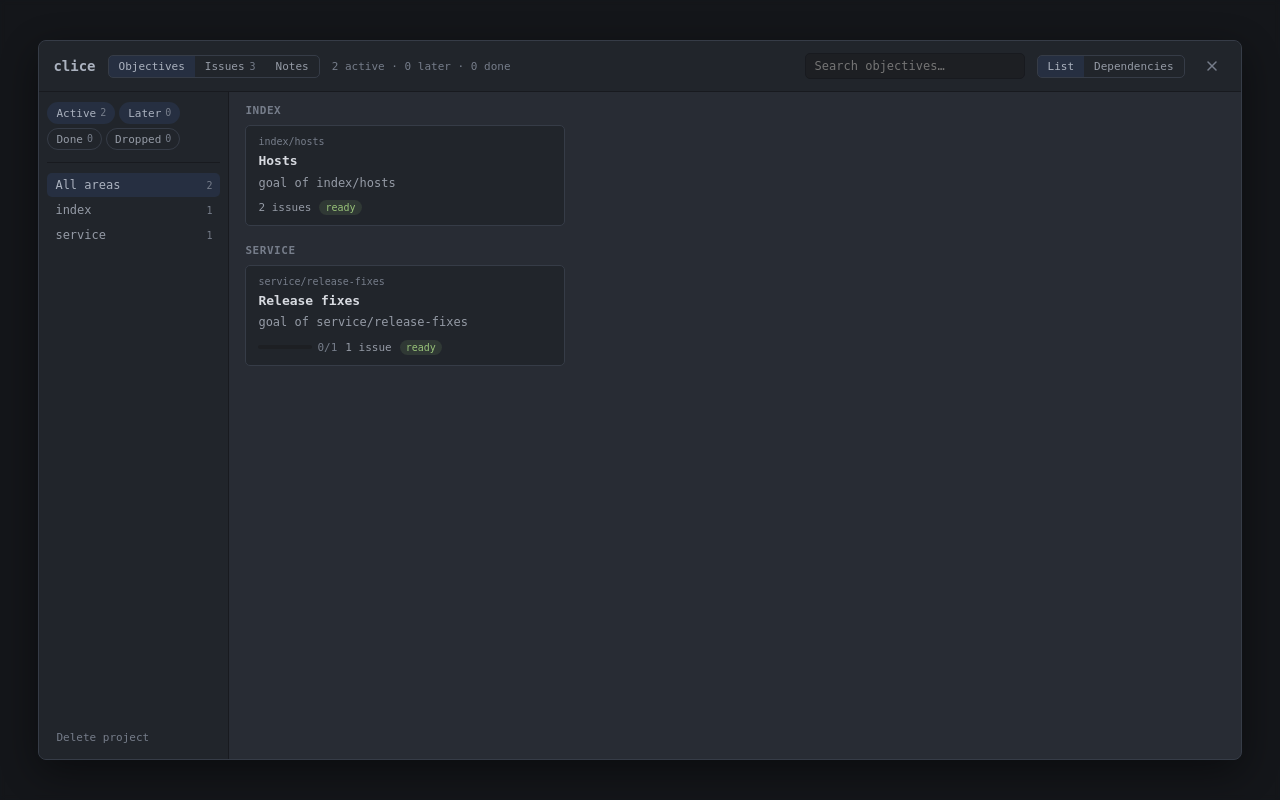
Test: issues on the objectives' side › links the issue ids named in an objective's text, not in code nor in a longer id
Click the button that starts with "service/release-fixes" at coordinates (405, 315), box [245,265,565,366]
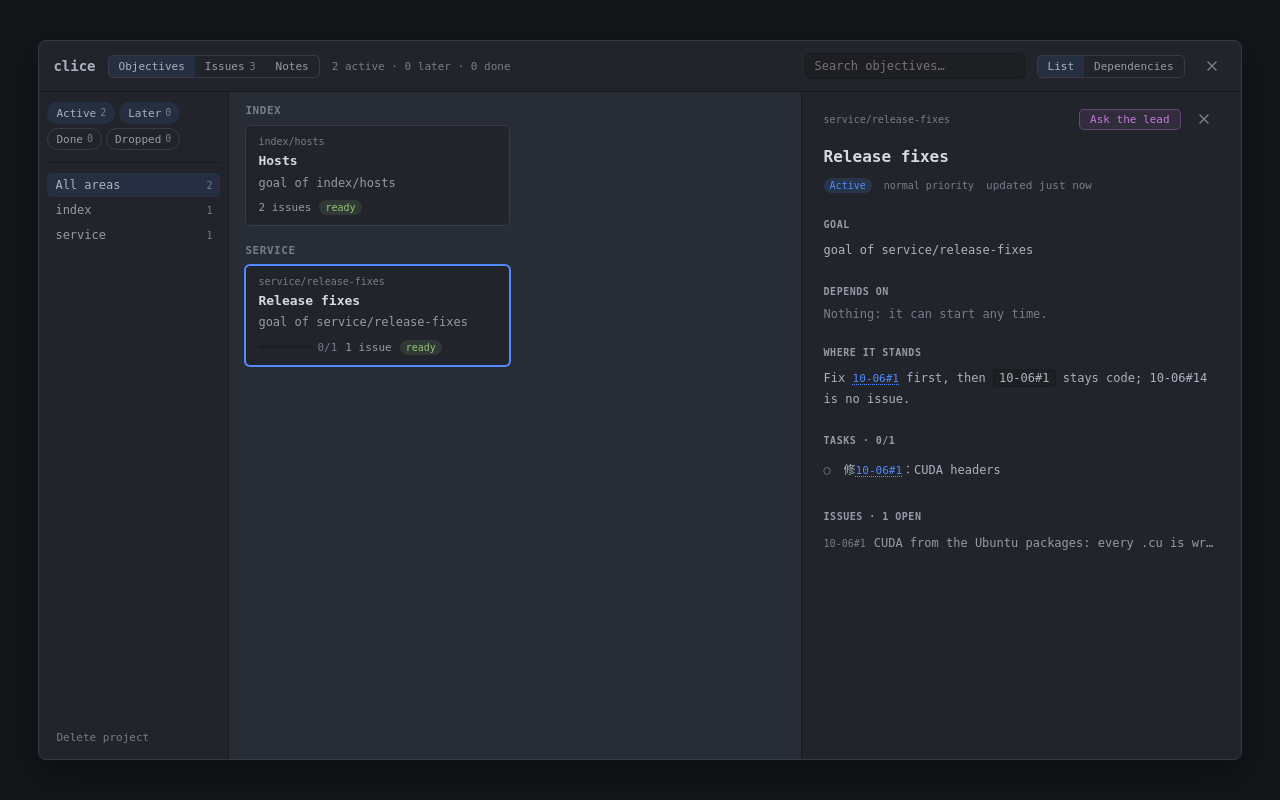
Expected: the text "10-06#1" next to "first, then" is shown, [999,371,1050,385]
Click the button with class "issue-ref" next to "first, then" at coordinates (876, 379), box [852,370,899,389]
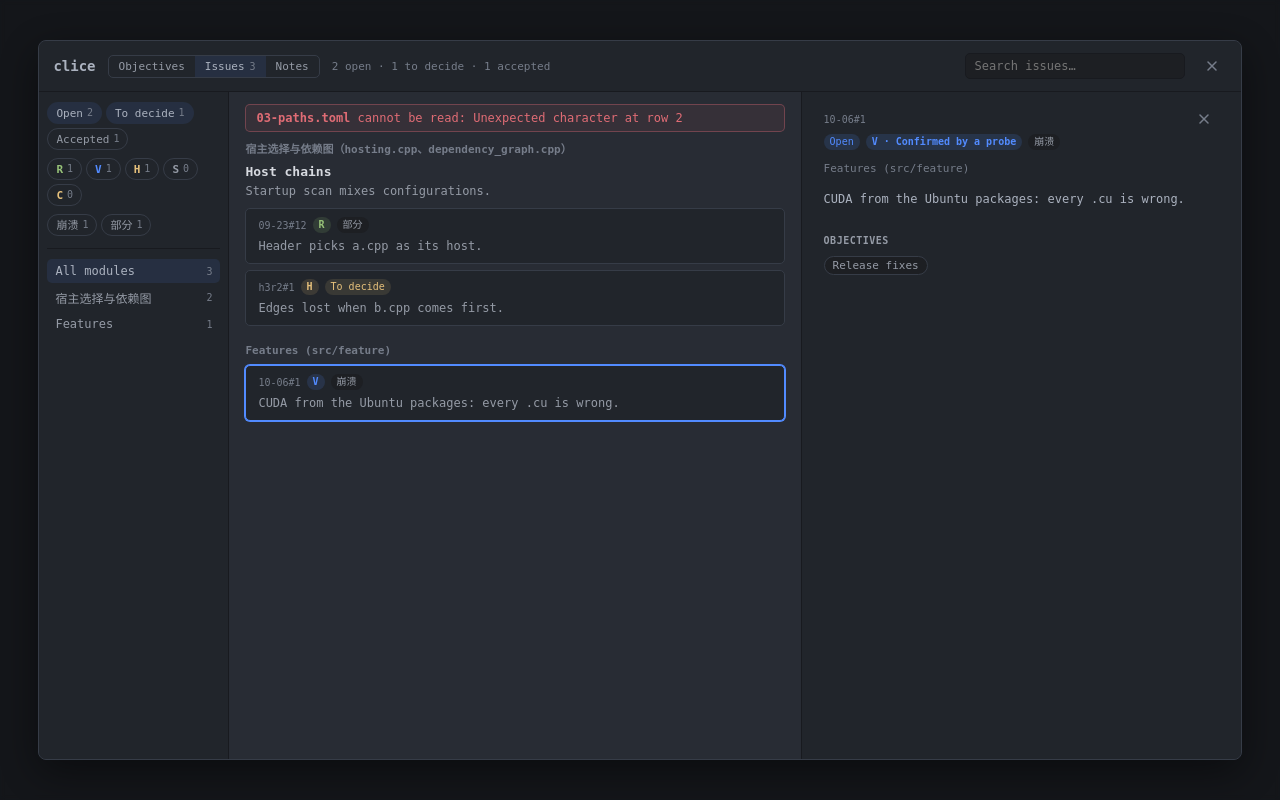
Expected: the element named "Issue 10-06#1" is shown, [801,92,1241,759]
